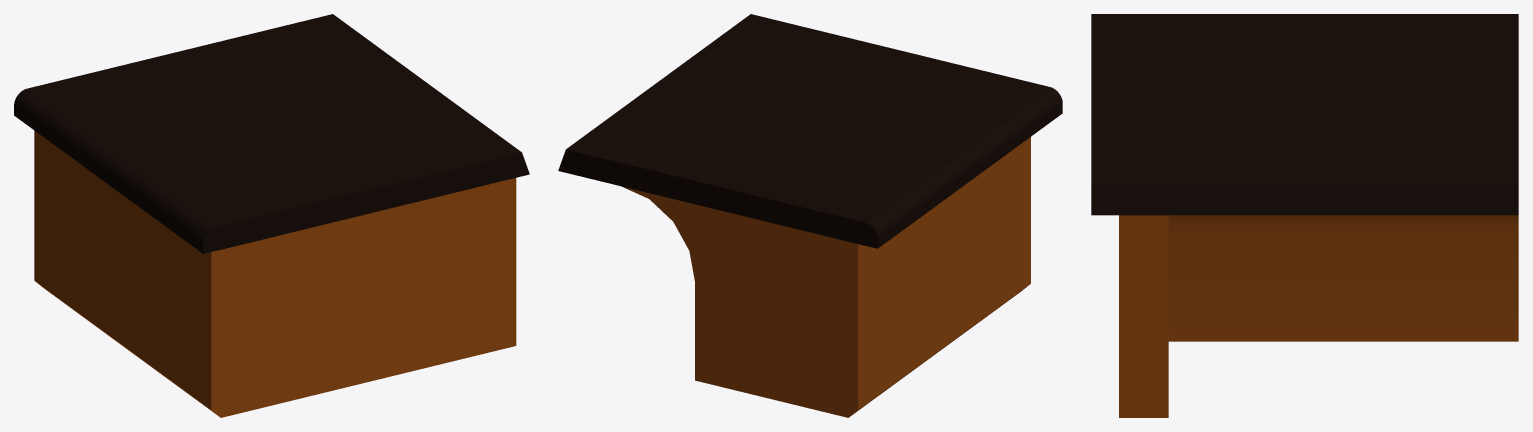
The model's file is end counter.obj.
3 renders of one model, left to right at view 1: azimuth 30°, elevation 25°; view 2: azimuth 150°, elevation 25°; view 3: azimuth 270°, elevation 25°, orthographic. The views are drawn at different scales.
Visible parts, largest first — view 1: end_counter_Cube.002; view 2: end_counter_Cube.002; view 3: end_counter_Cube.002.
Boxes of the visible parts, <box> form: end_counter_Cube.002: <box>14,14,529,417</box>; end_counter_Cube.002: <box>558,14,1062,417</box>; end_counter_Cube.002: <box>1091,14,1518,417</box>.
Size of the model in its own units: 2.13 by 1.27 by 2.14.
